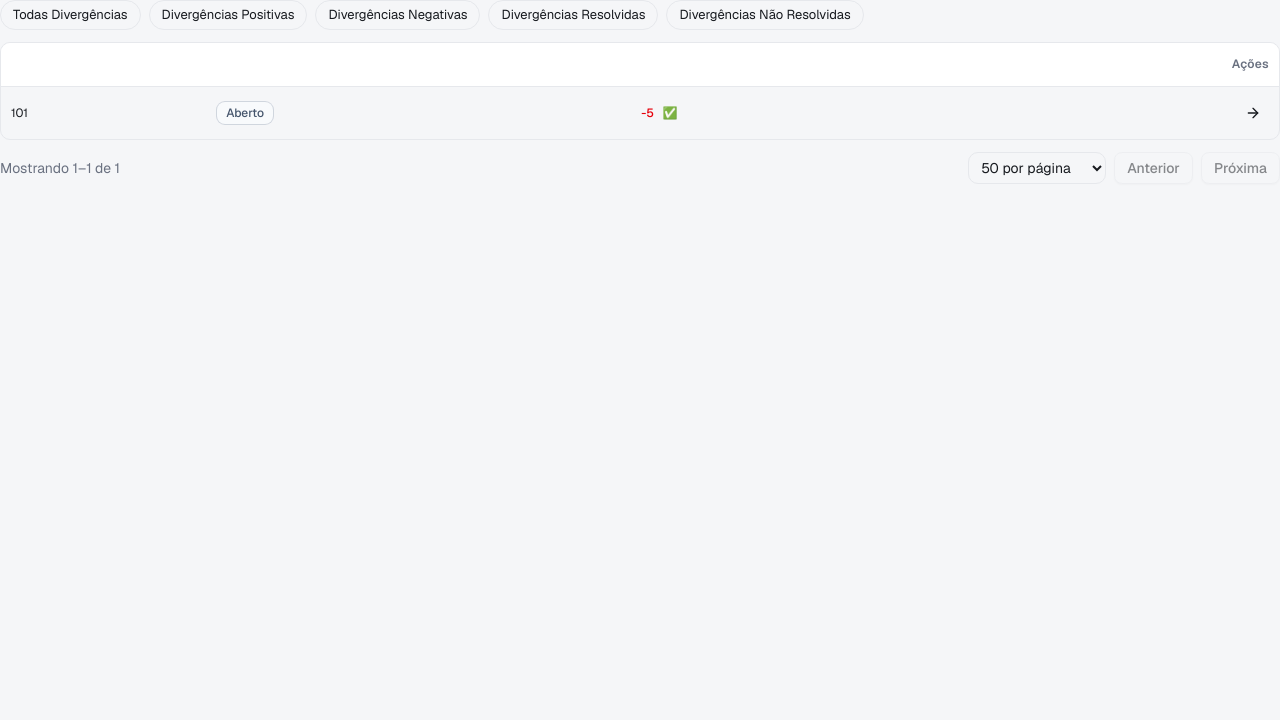
Test: diálogo de justificativa › abrir mostra o texto anterior e quem escreveu por último, com a data
The image size is (1280, 720).
Click the button named "Divergência justificada" at (670, 113), box [660,103,680,123]
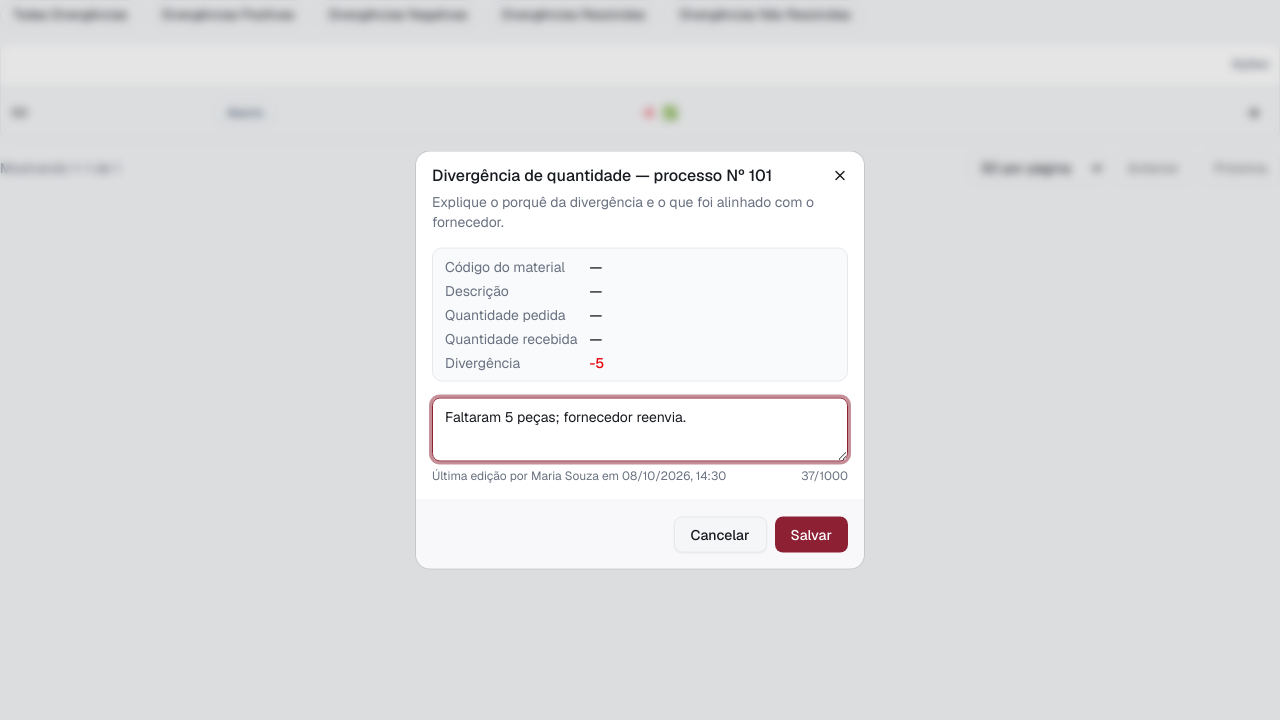
Expected: the text box named "Justificativa da divergência" holds "Faltaram 5 peças; fornecedor reenvia.", [432,398,848,462]
Expected: the text "Última edição por Maria Souza em 08/10/2026, 14:30" is shown, [432,468,726,484]
